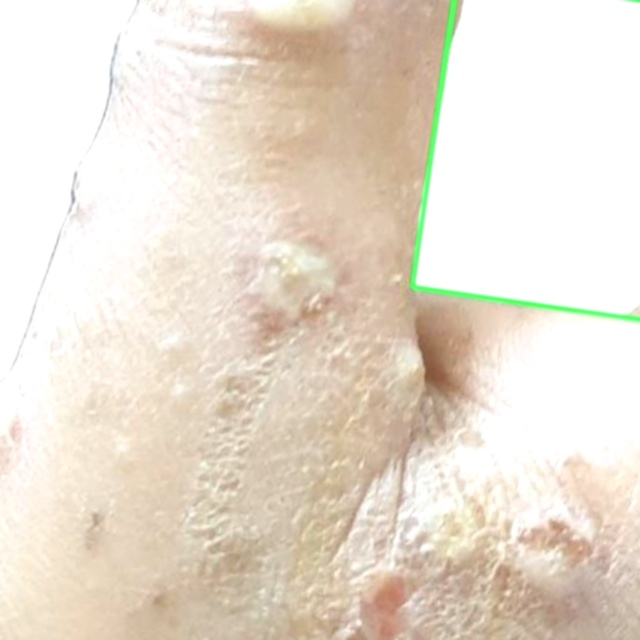Scabies: (413, 0, 639, 319)
